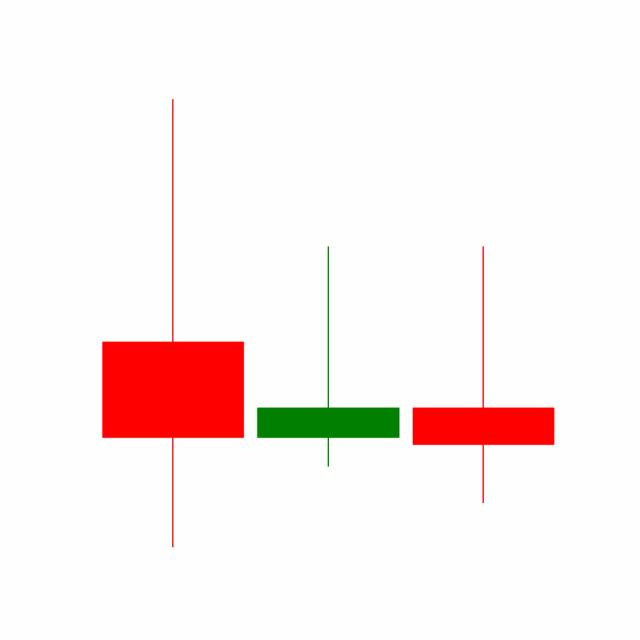Spinning Top: (249, 242, 406, 468)
